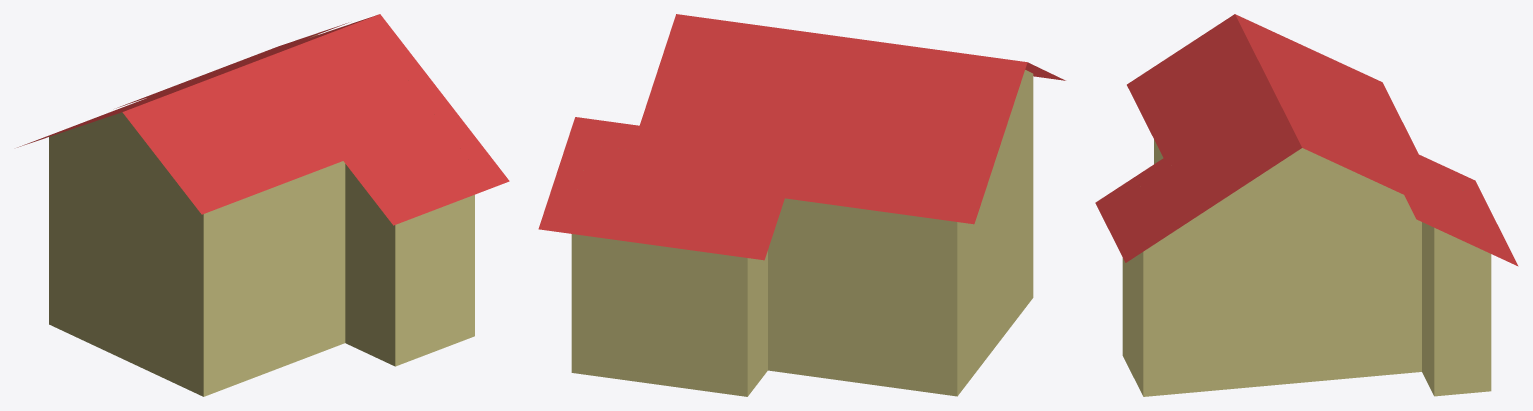
3 renders of one model, left to right at view 1: azimuth 30°, elevation 25°; view 2: azimuth 150°, elevation 25°; view 3: azimuth 270°, elevation 25°, orthographic. The views are drawn at different scales.
Size of the model in its own units: 16.67 by 18.3 by 11.67.
